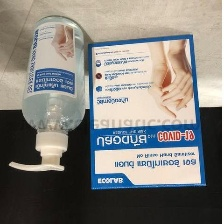book: (84, 30, 208, 194)
cleaning_solution: (7, 13, 89, 174)
